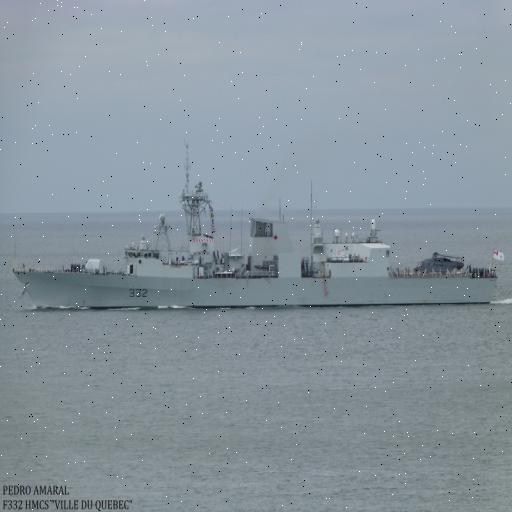Fragata: (10, 165, 509, 317)
